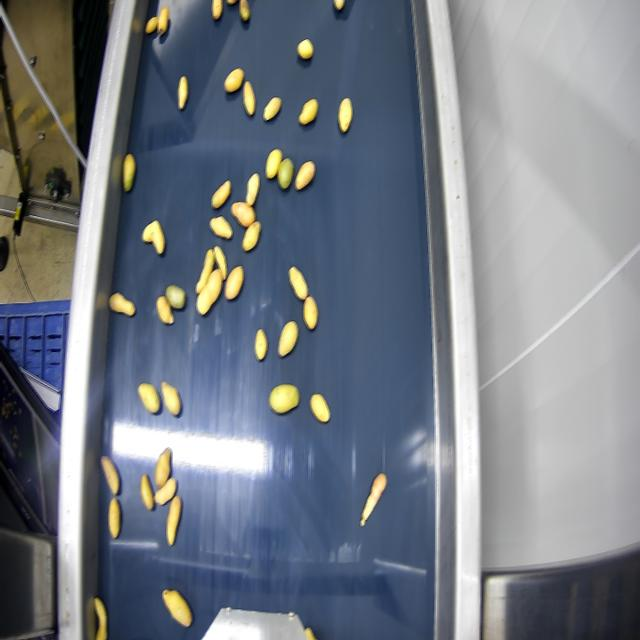Baby Potato: (161, 584, 194, 630), (361, 473, 386, 526), (197, 269, 222, 315), (270, 384, 299, 413), (196, 248, 214, 293), (142, 220, 164, 254), (101, 455, 119, 495), (167, 496, 181, 545), (279, 320, 297, 356), (161, 381, 180, 415), (138, 383, 159, 413), (225, 265, 243, 299), (289, 266, 307, 300), (155, 449, 171, 487), (109, 293, 134, 316), (232, 201, 254, 227), (94, 597, 107, 639), (155, 478, 176, 504), (296, 160, 314, 190), (311, 393, 329, 422), (243, 221, 260, 251), (212, 180, 230, 208), (304, 295, 318, 330), (210, 216, 231, 239), (141, 474, 154, 510), (278, 158, 293, 189), (266, 149, 282, 178), (166, 285, 185, 309), (123, 153, 135, 191), (339, 97, 352, 132), (299, 99, 317, 124), (157, 296, 173, 324), (109, 498, 120, 538), (225, 68, 243, 92), (246, 173, 259, 206), (264, 96, 281, 120), (214, 246, 226, 279), (244, 80, 255, 115), (255, 328, 266, 360), (298, 39, 313, 59), (178, 76, 187, 109), (158, 6, 168, 35), (240, 0, 250, 21), (146, 16, 158, 33), (212, 0, 222, 19), (305, 627, 315, 639), (334, 0, 344, 10), (227, 0, 236, 5)
